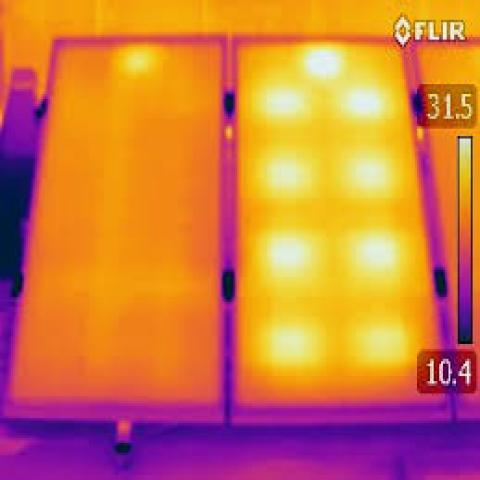fault: (353, 312, 416, 382), (259, 226, 319, 294), (341, 224, 403, 286), (263, 316, 324, 374), (264, 143, 330, 195), (340, 147, 398, 203), (105, 37, 170, 85), (251, 76, 316, 118), (338, 79, 391, 120), (305, 44, 347, 85)
